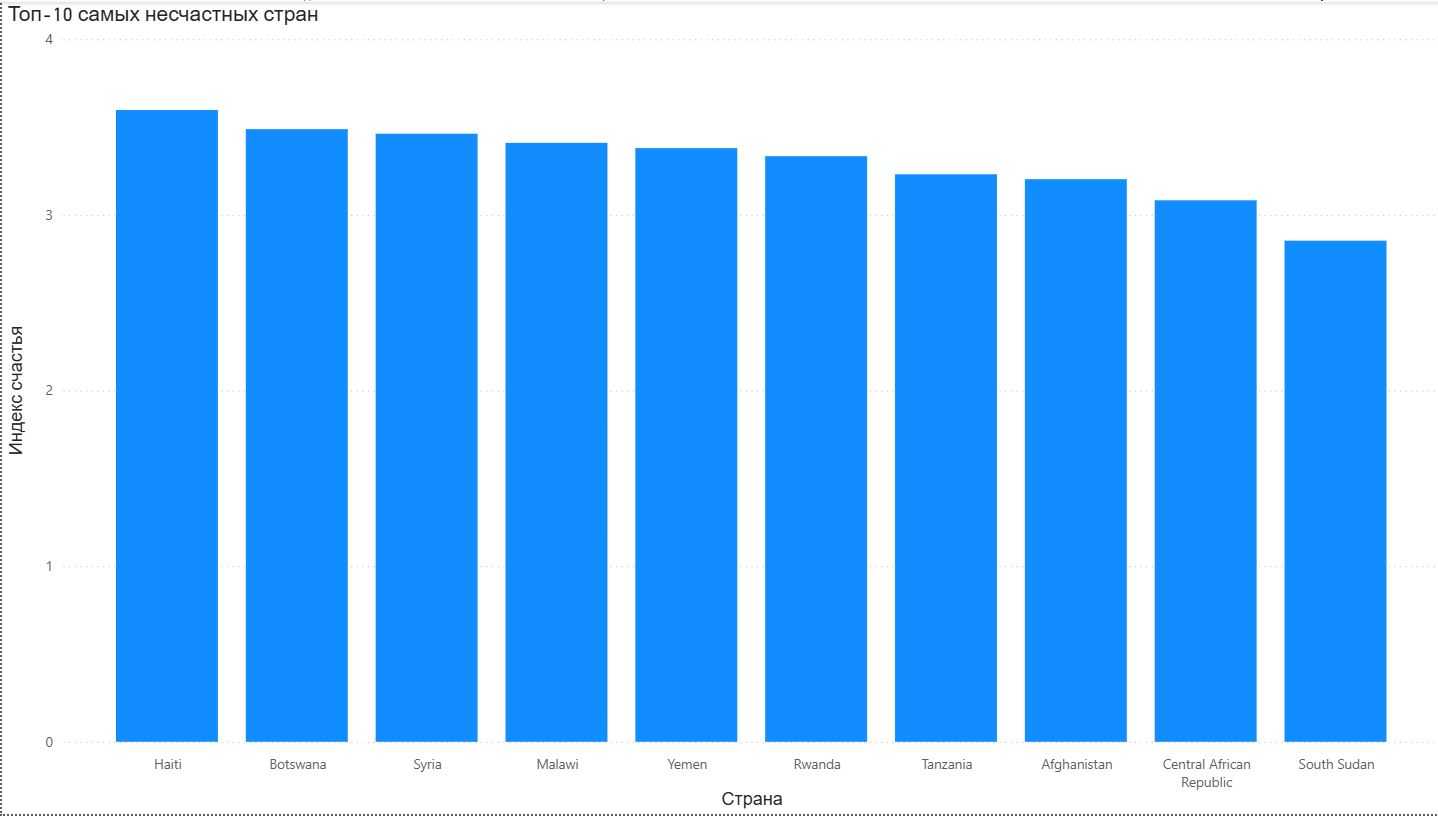

Layout of this report page (visuals, bound fields, positions):
{"tool":"powerbi","page":{"name":"Топ-10 самых несчастных стран","canvas":[1280,720],"ordinal":1},"visuals":[{"type":"clusteredColumnChart","fields":{"Category":["2019.Страна"],"Y":["Sum(2019.Индекс счастья)"]},"box":[0,0,1280.4,720],"z":0}]}

Visuals, with their boxes in screenshot pixels (x1, y1, x2, y2), scaled from the page's 1280x720 canvas onto the 1438x816 screenshot:
clusteredColumnChart - 2019.Страна x Sum(2019.Индекс счастья): Rect(0, 0, 1437, 815)
